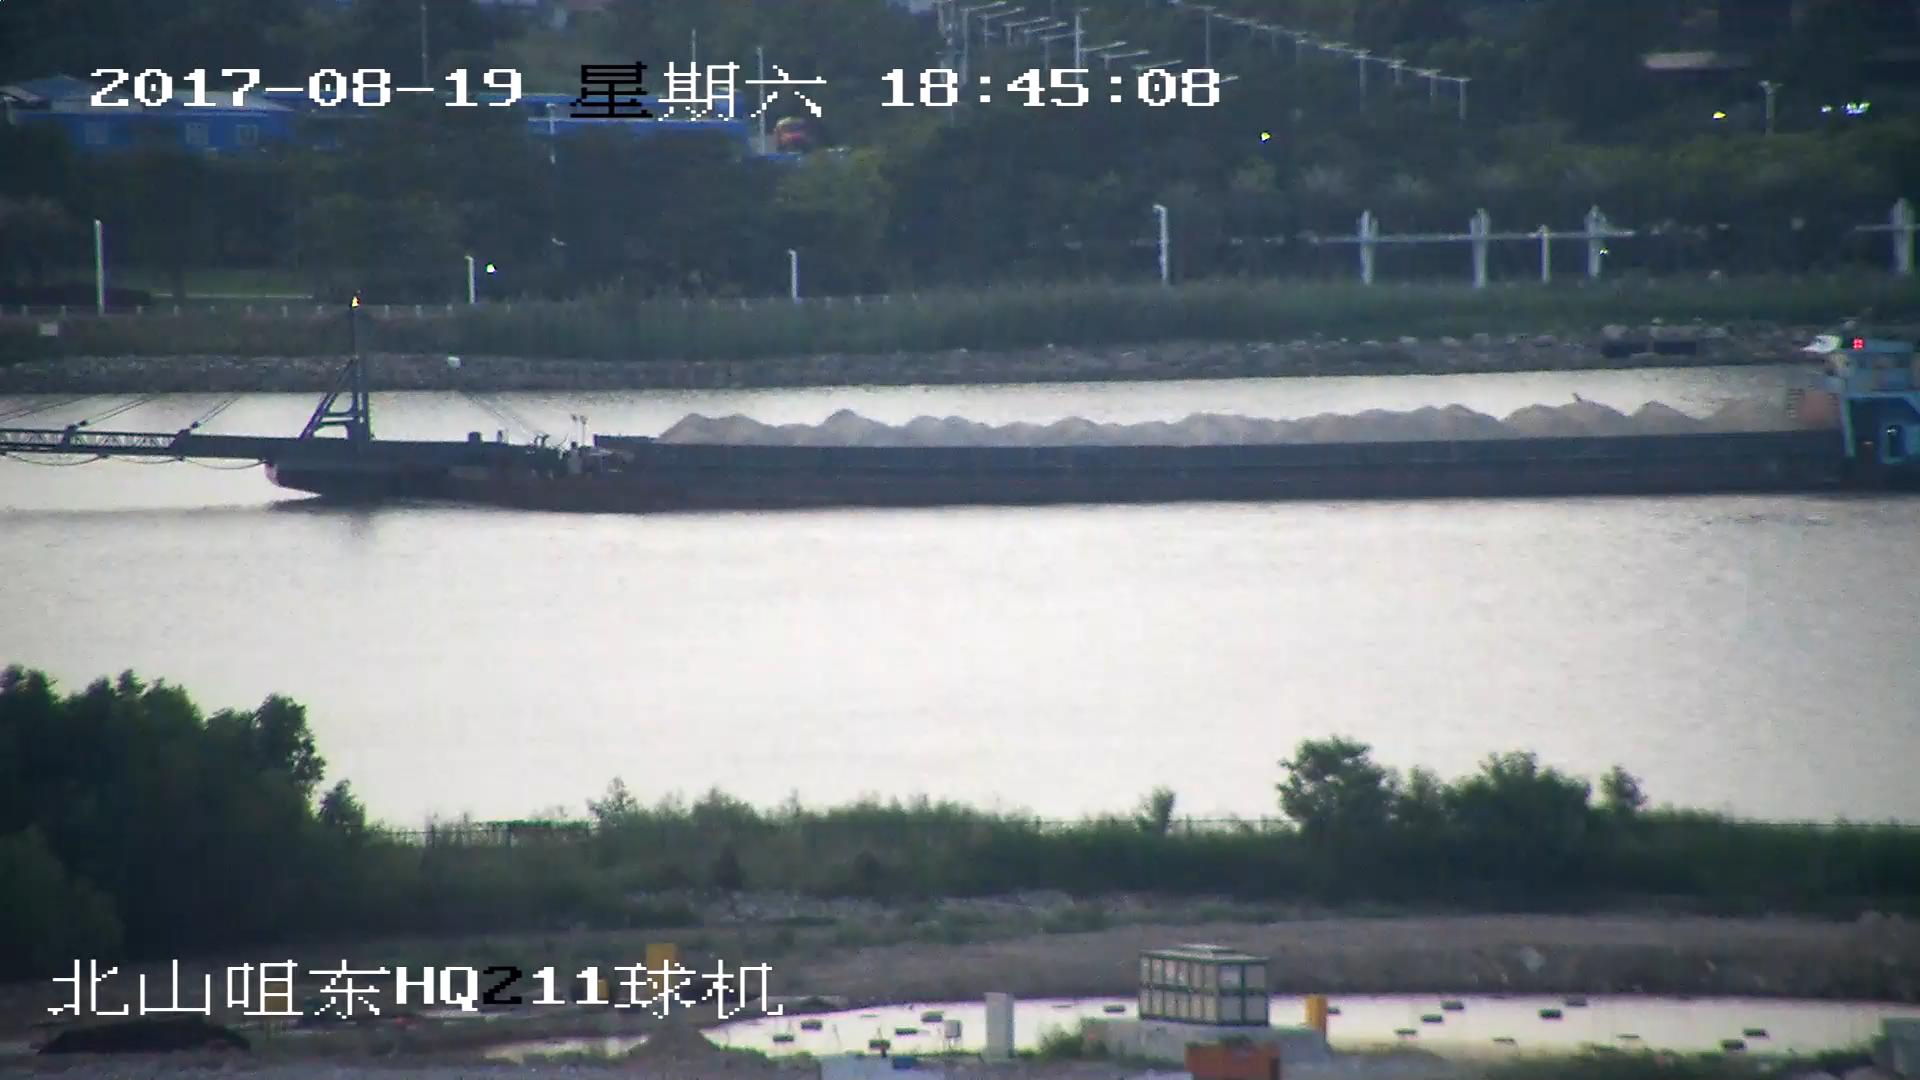ore carrier: (1, 295, 1920, 519)
